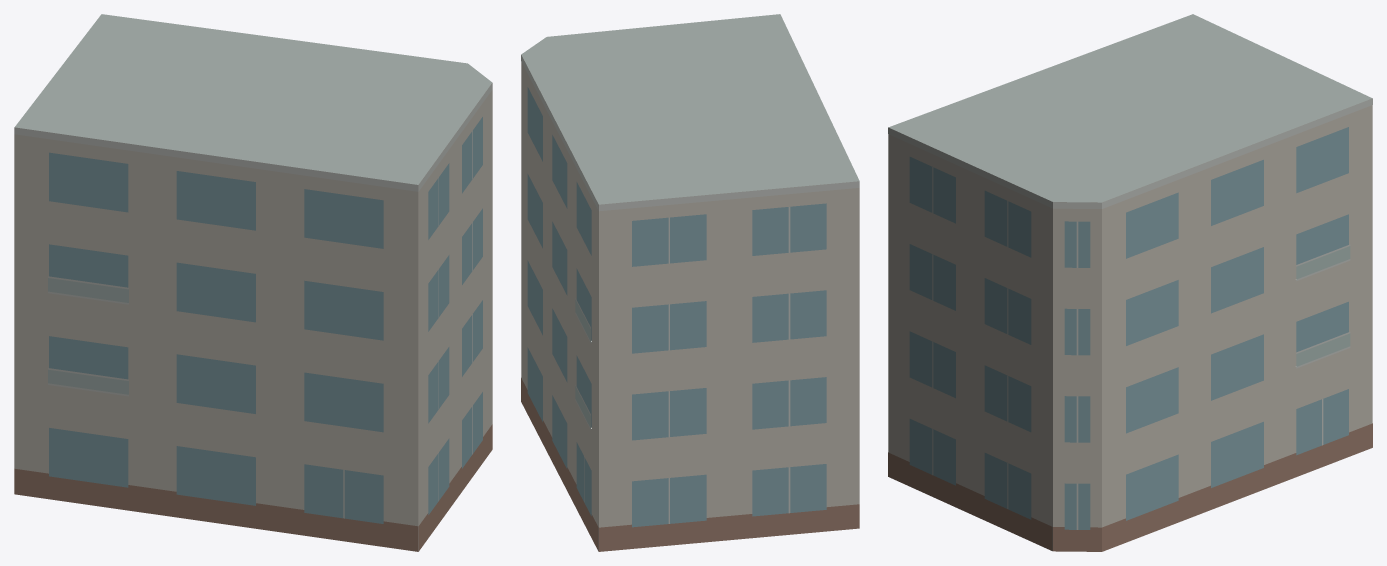
File: survey-upis-32945476.glb
3 renders of one model, left to right at view 1: azimuth 30°, elevation 25°; view 2: azimuth 150°, elevation 25°; view 3: azimuth 270°, elevation 25°, orthographic. The views are drawn at different scales.
Parts seen in each view (by area): view 1: survey-upis-32945476.tmp; view 2: survey-upis-32945476.tmp; view 3: survey-upis-32945476.tmp.
Boxes of the visible parts, bbox=[...] form: survey-upis-32945476.tmp: bbox=[14, 14, 492, 551]; survey-upis-32945476.tmp: bbox=[521, 14, 859, 551]; survey-upis-32945476.tmp: bbox=[888, 14, 1372, 551].
Bounding box in the file's own units: 14.88 × 12.85 × 16.16.
